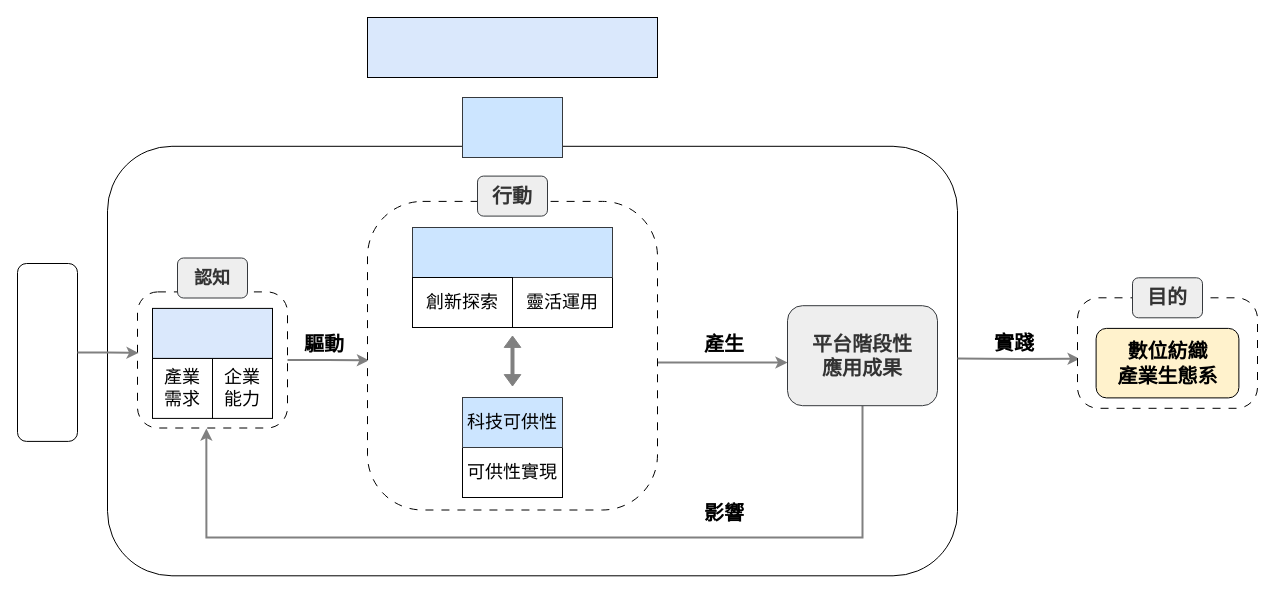
Some shapes in this 1275 by 594 pixel diagram are drawn without their labels. Each missing label, with the centre of its shape:
"制定" goes at (512,127).
"數位創新之平台發展歷程" goes at (512,47).
"環 境" goes at (47,351).
"能動性" goes at (212,332).
"雙元性靈巧" goes at (512,252).
